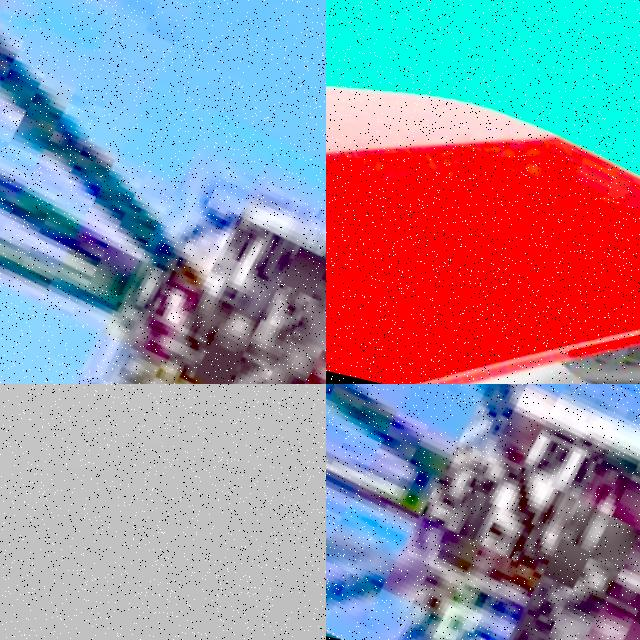0: (0, 0, 326, 384), (326, 384, 640, 640)
drone: (326, 0, 640, 384)
